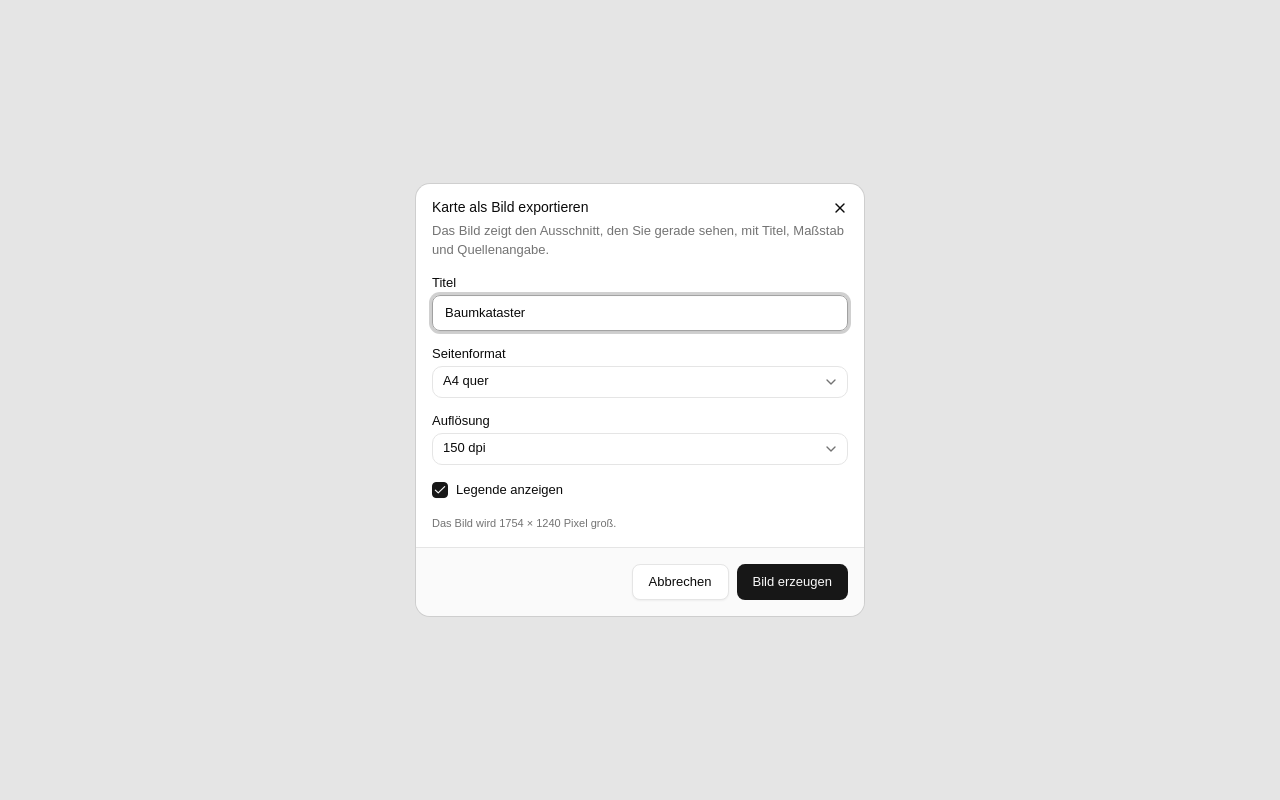
MapImageDialog › rechnet die Bildgröße neu, wenn die Auflösung wechselt
Click the dropdown named "Auflösung" at (464, 448), box [432, 433, 848, 465]
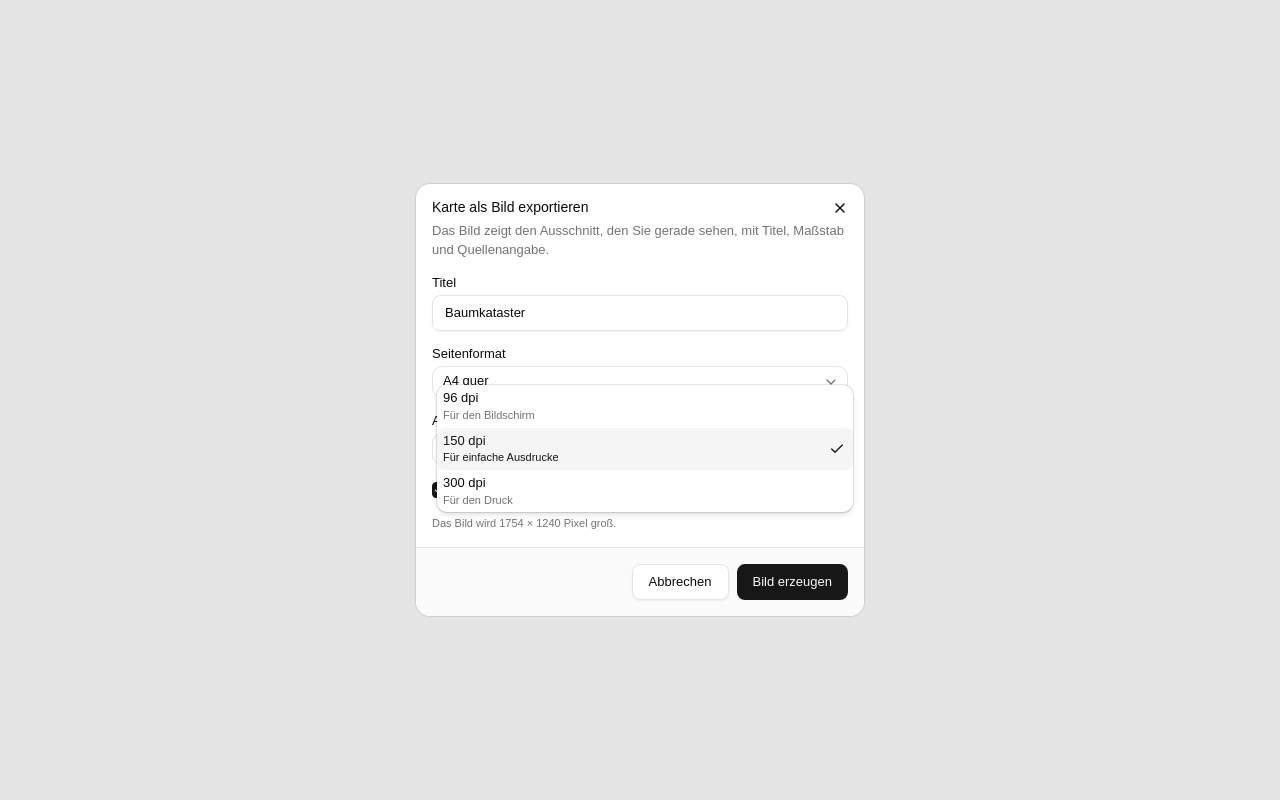
Click the option "300 dpi Für den Druck" at (478, 490), box [443, 475, 513, 506]
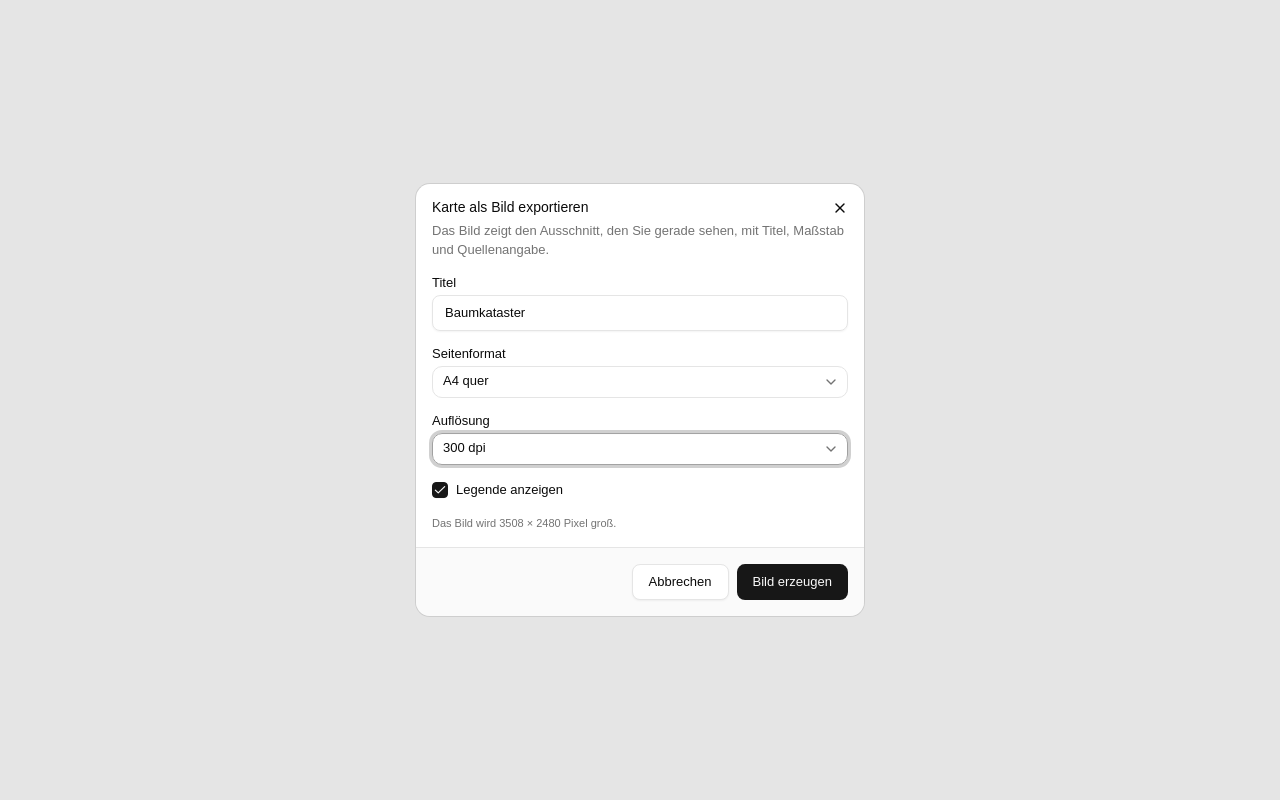
Check: the text "Das Bild wird 3508 × 2480 Pixel groß." is shown, box [432, 517, 616, 529]
